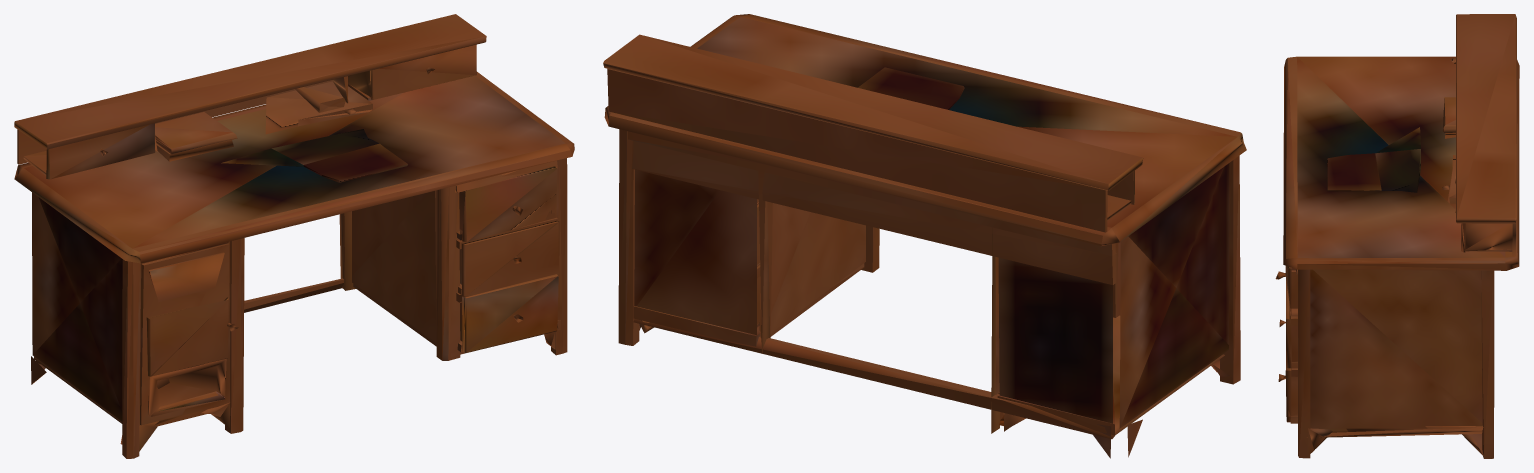
The model's file is desk.lod2.glb.
3 renders of one model, left to right at view 1: azimuth 30°, elevation 25°; view 2: azimuth 150°, elevation 25°; view 3: azimuth 270°, elevation 25°, orthographic. The views are drawn at different scales.
Bounding box in the file's own units: 1.4 × 0.7587 × 0.6934.
1 material, 1 textured.
